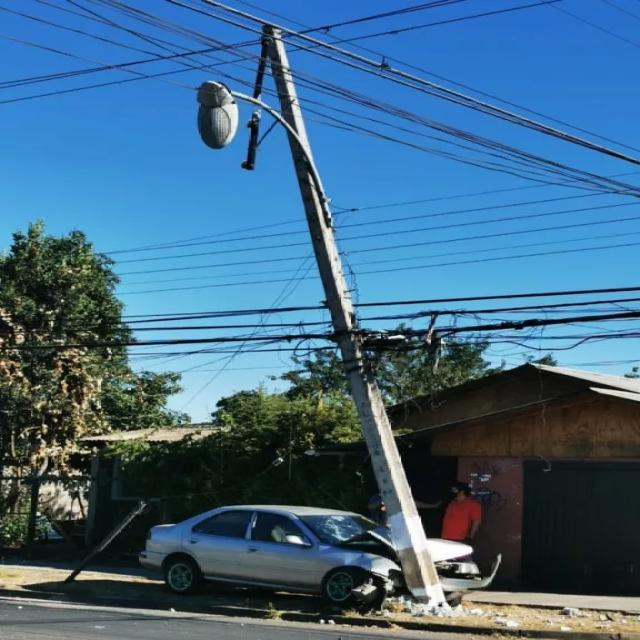Inclined Pole: (185, 20, 458, 612)
